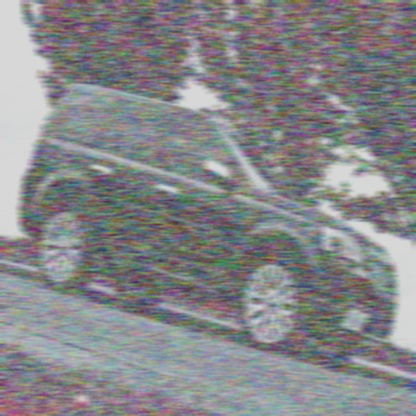Vehicle: (18, 81, 398, 370)
